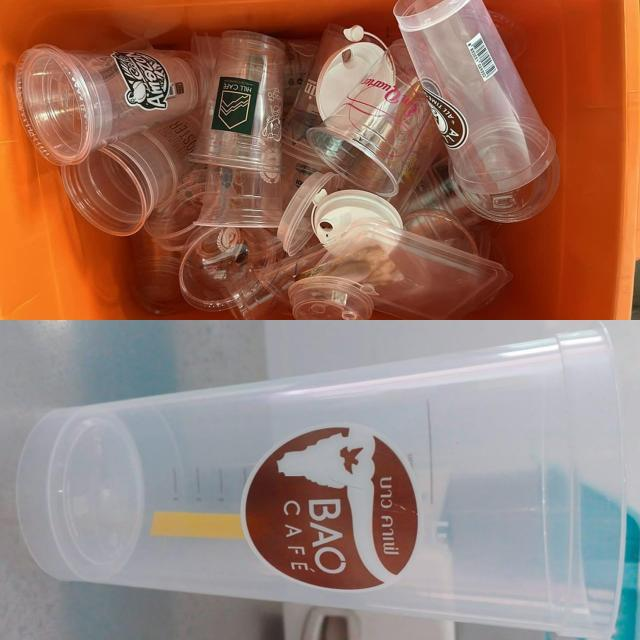Single-Use-Plastic: (16, 322, 626, 640), (394, 0, 560, 222), (308, 40, 442, 211), (15, 44, 201, 165), (311, 220, 511, 318), (191, 30, 285, 172), (179, 226, 282, 311), (195, 165, 282, 228), (311, 190, 402, 245), (289, 276, 374, 320)
